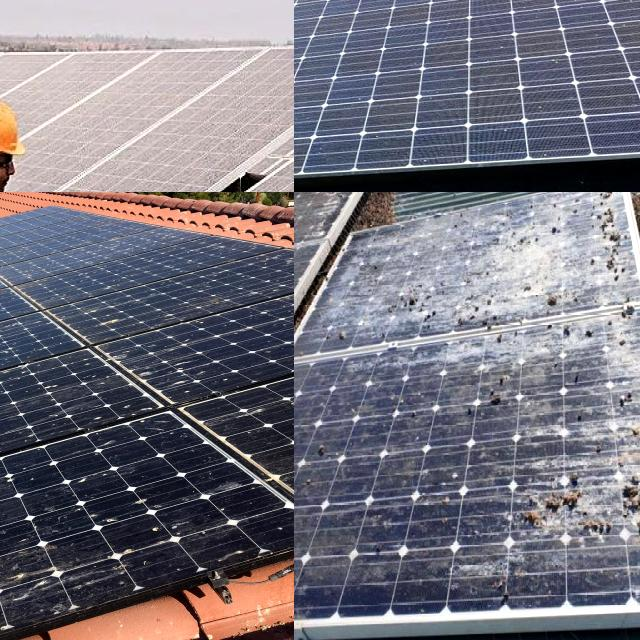bird: (587, 201, 640, 327), (518, 462, 587, 538), (472, 341, 509, 424), (548, 264, 584, 348), (613, 470, 640, 541), (630, 420, 640, 472)
dust: (351, 0, 495, 145), (516, 0, 640, 142), (361, 0, 635, 62), (70, 98, 194, 192), (0, 400, 82, 530), (0, 567, 124, 640), (0, 416, 60, 540), (247, 345, 294, 503), (294, 30, 344, 170), (0, 54, 136, 88), (0, 52, 48, 139), (13, 562, 117, 602), (150, 51, 236, 94), (0, 301, 34, 403), (0, 52, 39, 139), (35, 118, 65, 192), (206, 110, 253, 154), (268, 46, 294, 109), (0, 58, 22, 90)
